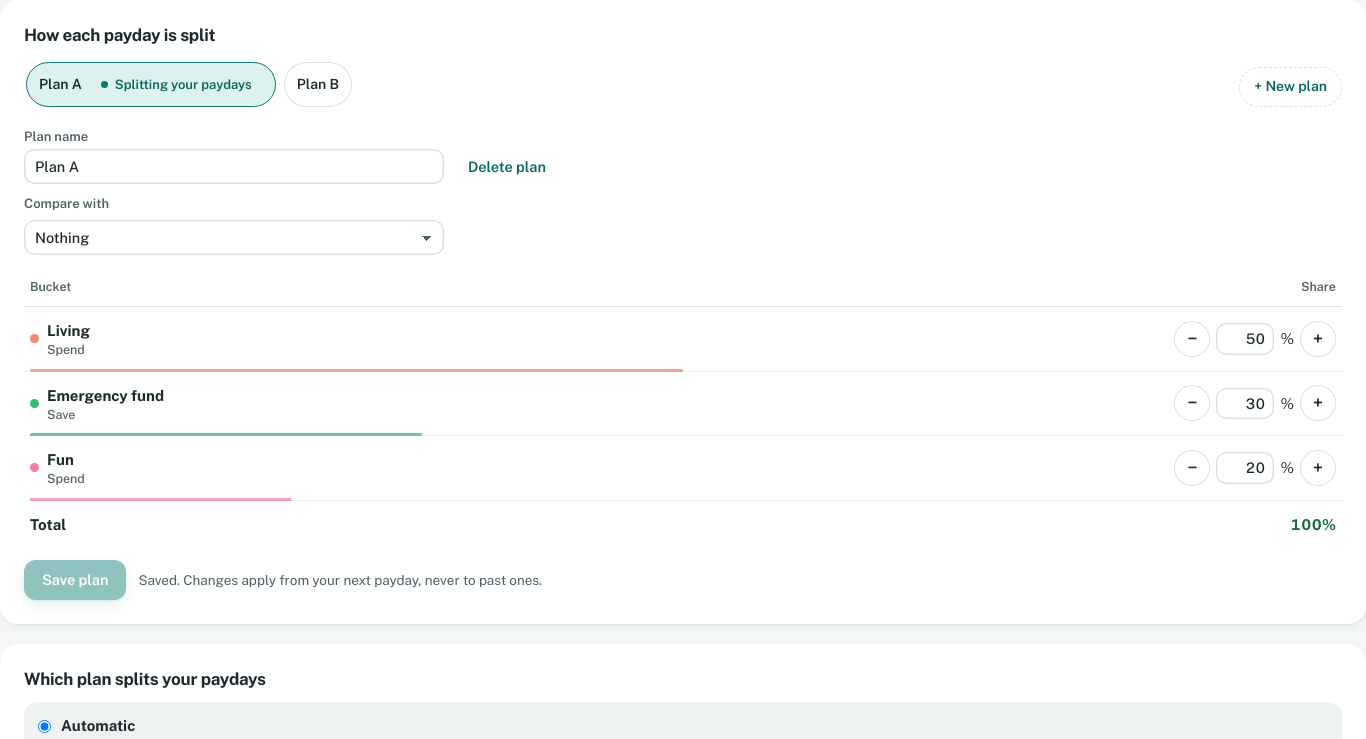
Test case: plan bar and editor › stepper buttons move one point
Click the button named "Decrease Living by 1%".
click(1192, 339)  # box [1174, 321, 1210, 357]
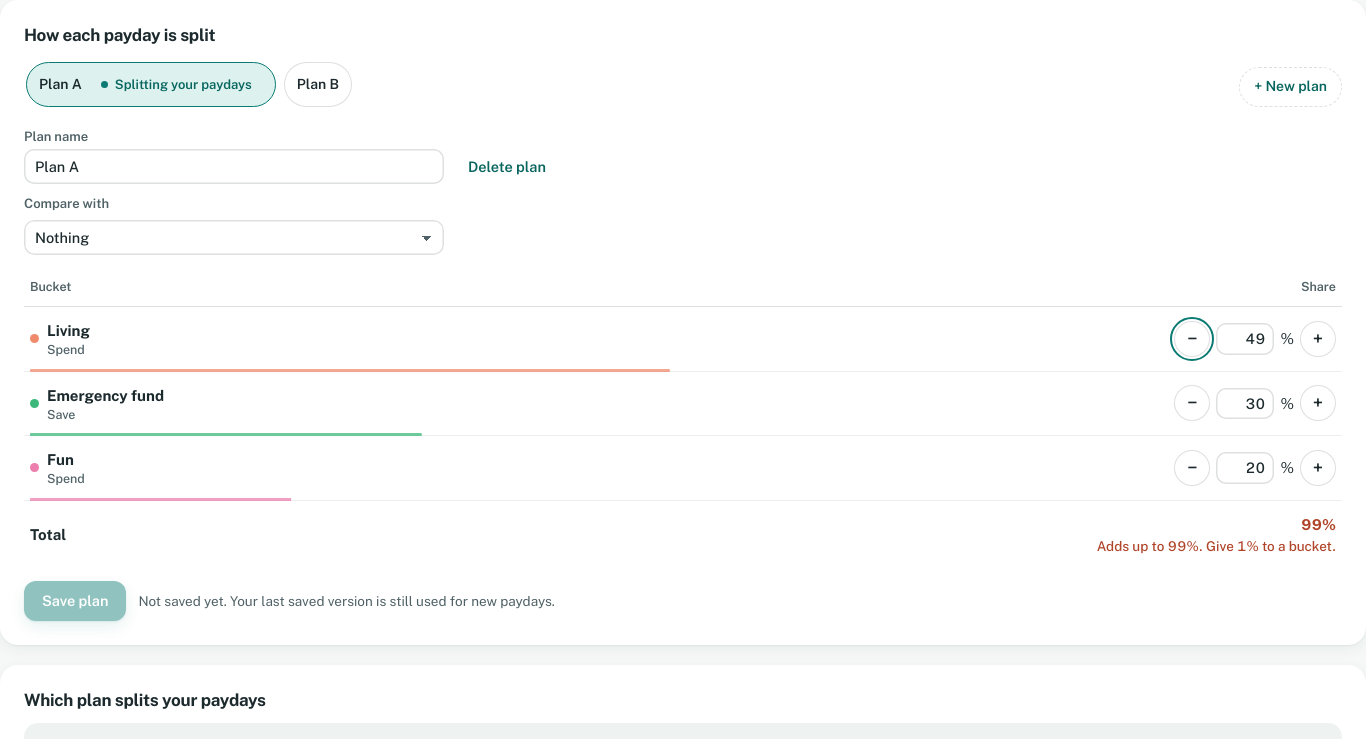
expect the field named "Living percent" holds "49": met, box [1216, 323, 1274, 354]
Click the button named "Increase Fun by 1%".
click(1318, 468)  # box [1300, 450, 1336, 486]
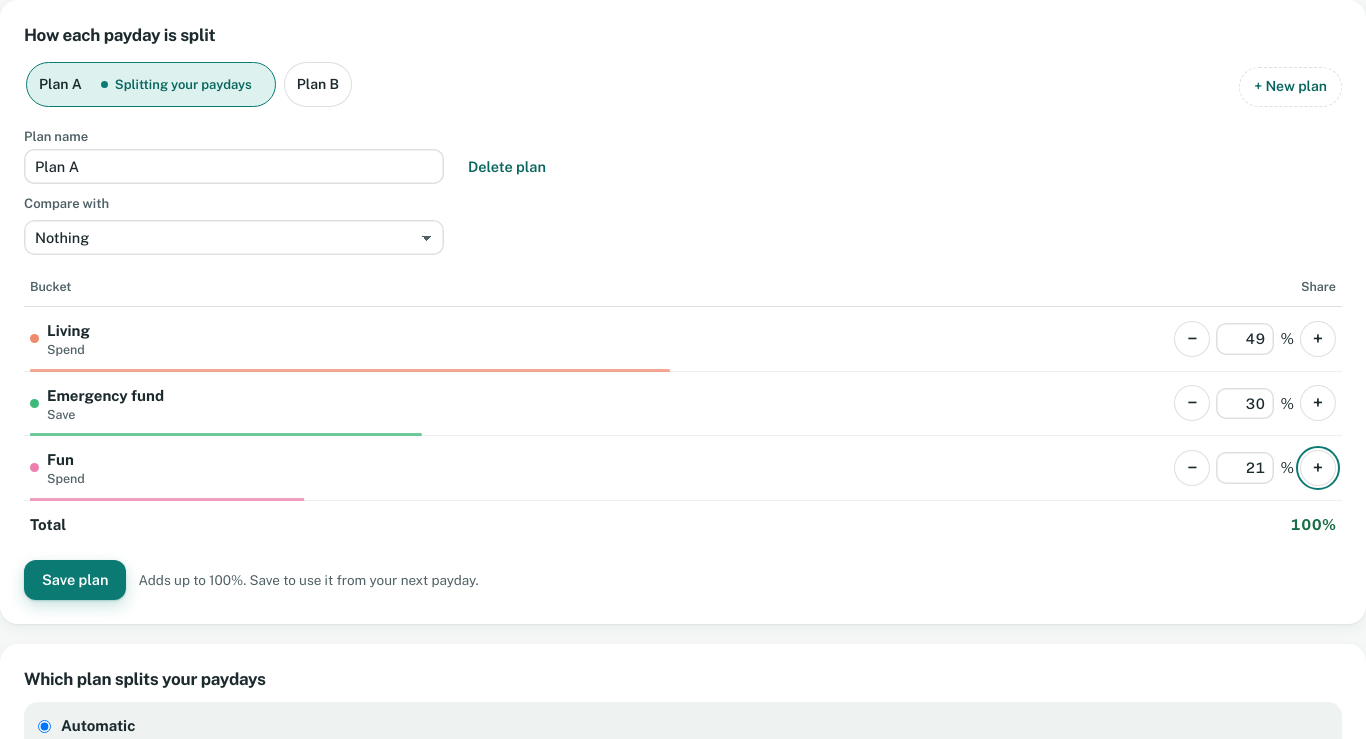
expect the field named "Fun percent" holds "21": met, box [1216, 452, 1274, 484]
expect the cell with test id "plan-total" reads "100%": met, box [1290, 513, 1336, 536]
